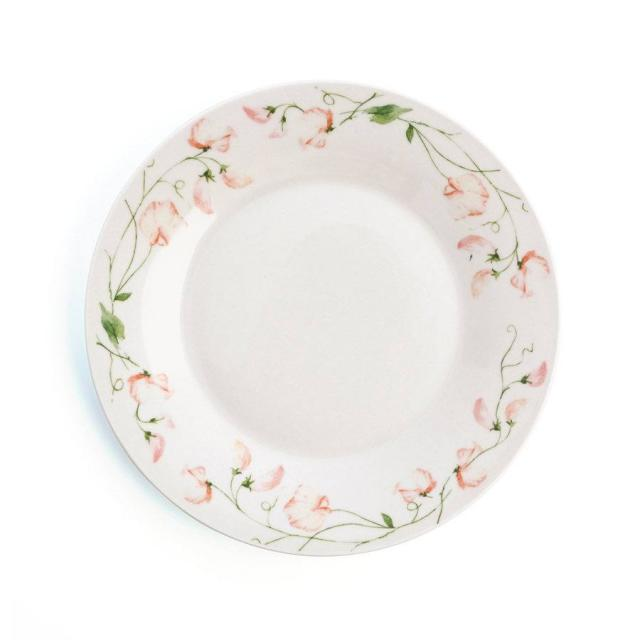non-organic waste: (79, 71, 572, 581)
